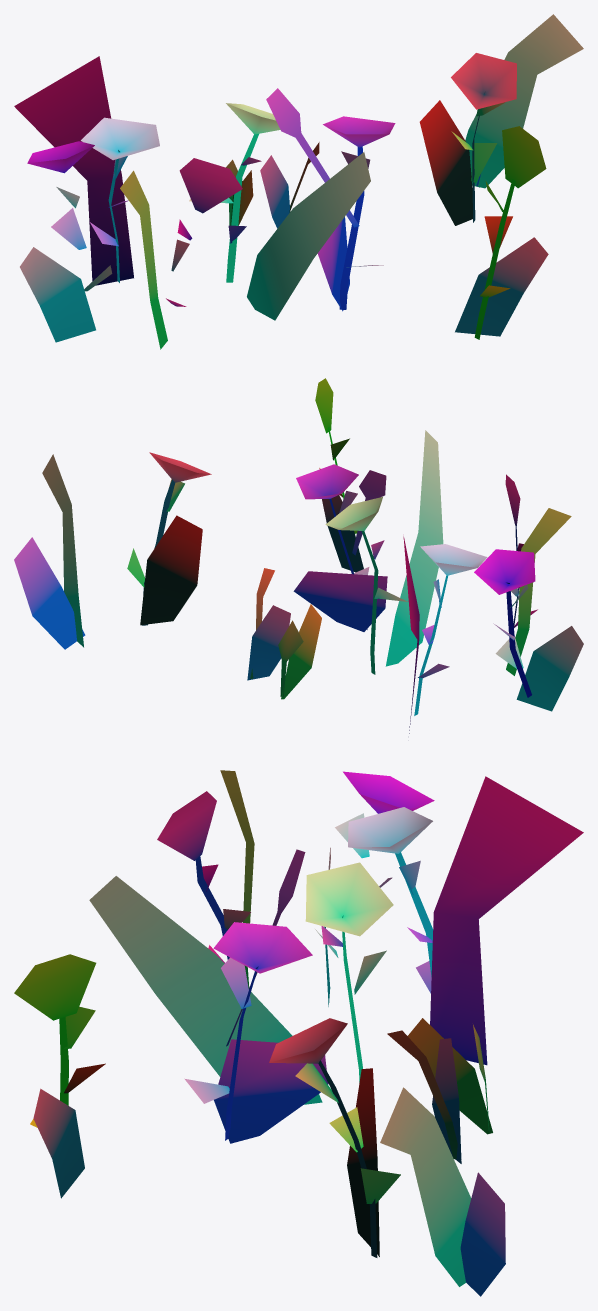
The model's file is Matted_Pratia_uegjcflia_Mid_uegjcflia_VarA_LOD1.fbx.
3 renders of one model, top to bottom at view 1: azimuth 30°, elevation 25°; view 2: azimuth 150°, elevation 25°; view 3: azimuth 270°, elevation 25°, orthographic. The views are drawn at different scales.
Parts seen in each view (by area): view 1: _708b_VarA_LOD2; view 2: _708b_VarA_LOD2; view 3: _708b_VarA_LOD2.
Boxes of the visible parts, x1,y1,x2,y2 form: _708b_VarA_LOD2: [14, 14, 583, 349]; _708b_VarA_LOD2: [14, 378, 583, 733]; _708b_VarA_LOD2: [14, 770, 583, 1296].
Size of the model in its own units: 18.66 by 7.01 by 12.35.
